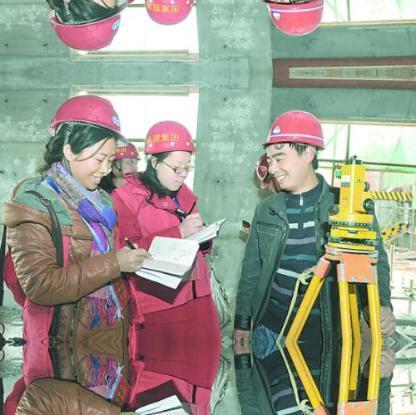helmet: (45, 95, 133, 149), (260, 111, 324, 156), (138, 114, 194, 160)
